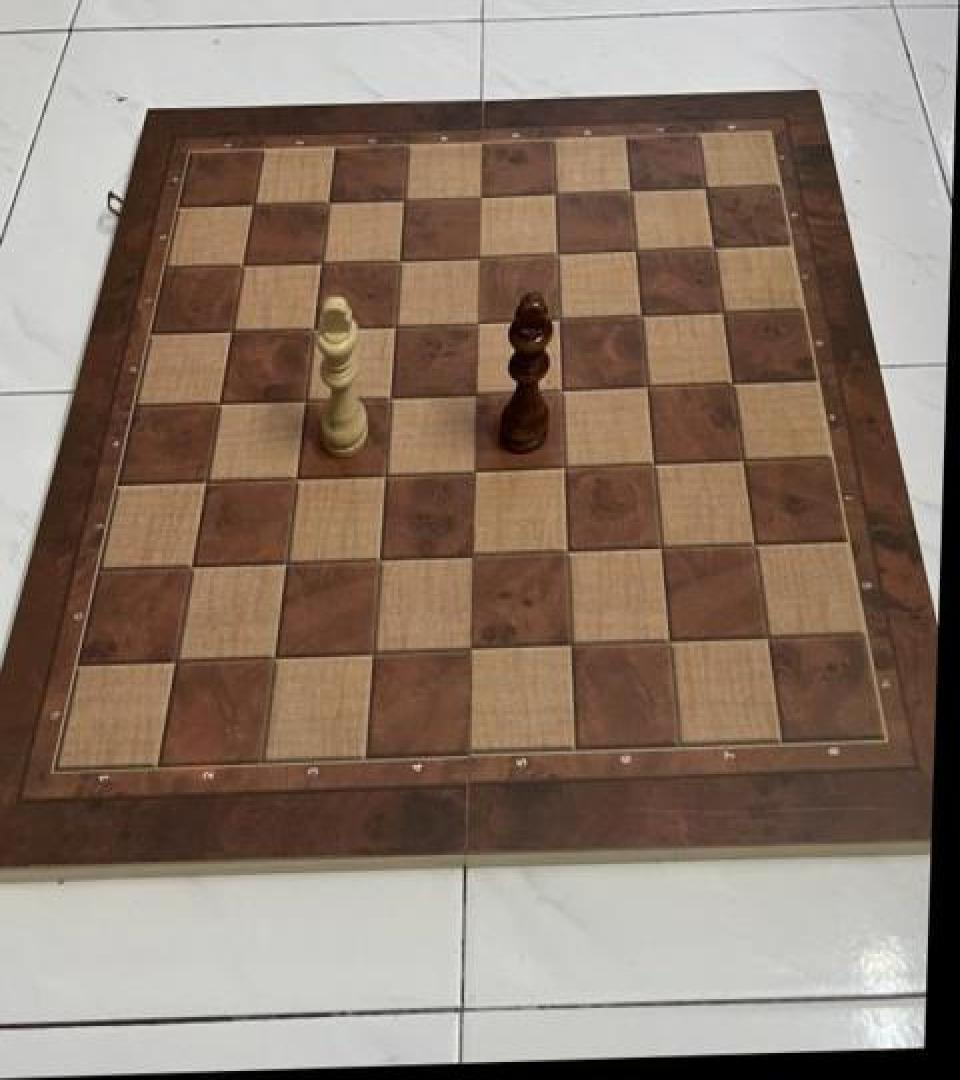xcorner: (539, 174, 573, 213), (462, 237, 496, 276), (298, 309, 332, 348), (370, 454, 404, 493), (191, 462, 225, 501), (554, 625, 588, 664), (690, 168, 724, 206), (614, 171, 648, 209), (463, 178, 497, 216), (388, 181, 422, 219), (313, 184, 347, 222), (238, 187, 272, 225), (698, 228, 732, 266), (619, 231, 653, 269), (541, 234, 575, 272), (384, 241, 418, 279), (306, 244, 340, 282), (228, 248, 262, 286), (707, 292, 741, 330), (625, 296, 659, 334), (543, 300, 577, 338), (461, 303, 495, 341), (380, 306, 414, 344), (217, 313, 251, 351), (716, 362, 750, 400), (631, 367, 665, 405), (545, 370, 579, 408), (460, 374, 494, 412), (375, 377, 409, 415), (290, 380, 324, 418), (205, 384, 239, 422), (727, 440, 761, 478), (637, 444, 671, 482), (548, 447, 582, 485), (459, 451, 493, 489), (280, 458, 314, 496), (738, 524, 772, 562), (645, 528, 679, 566), (551, 532, 585, 570), (457, 536, 491, 574), (364, 540, 398, 578), (270, 544, 304, 582), (177, 547, 211, 585), (751, 618, 785, 656), (653, 621, 687, 659), (456, 629, 490, 667), (357, 634, 391, 672), (259, 637, 293, 675), (161, 642, 195, 680)
